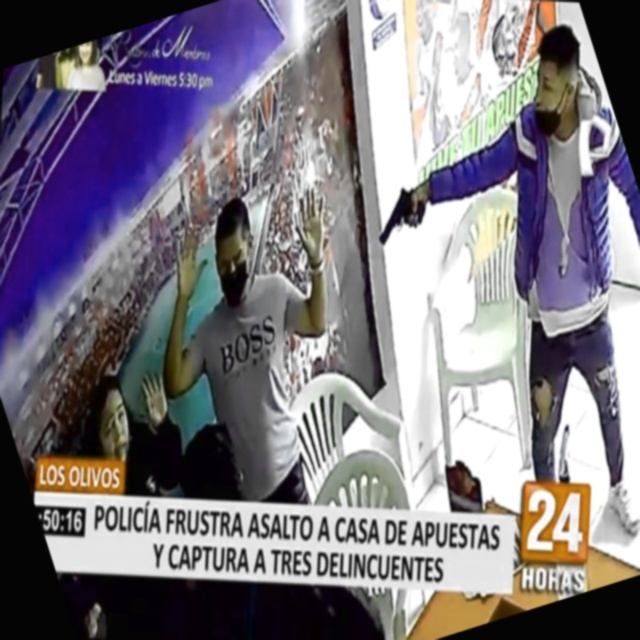gun: (345, 151, 455, 280)
